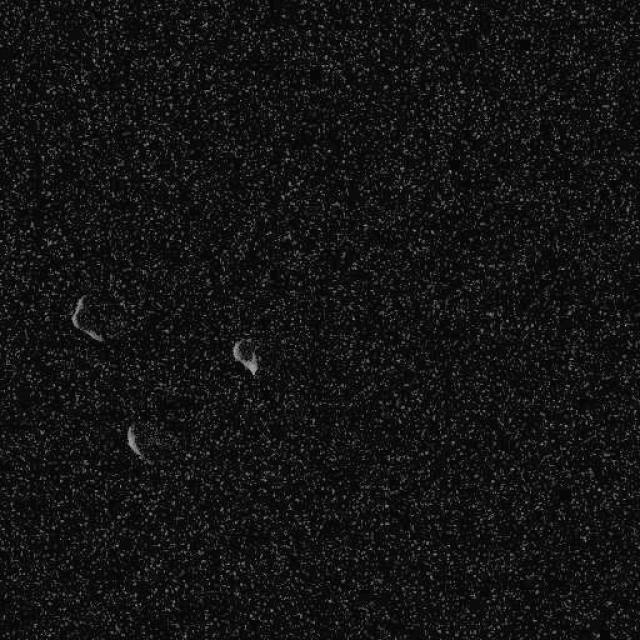D2: (69, 292, 105, 344), (231, 336, 260, 376), (125, 422, 147, 463)
